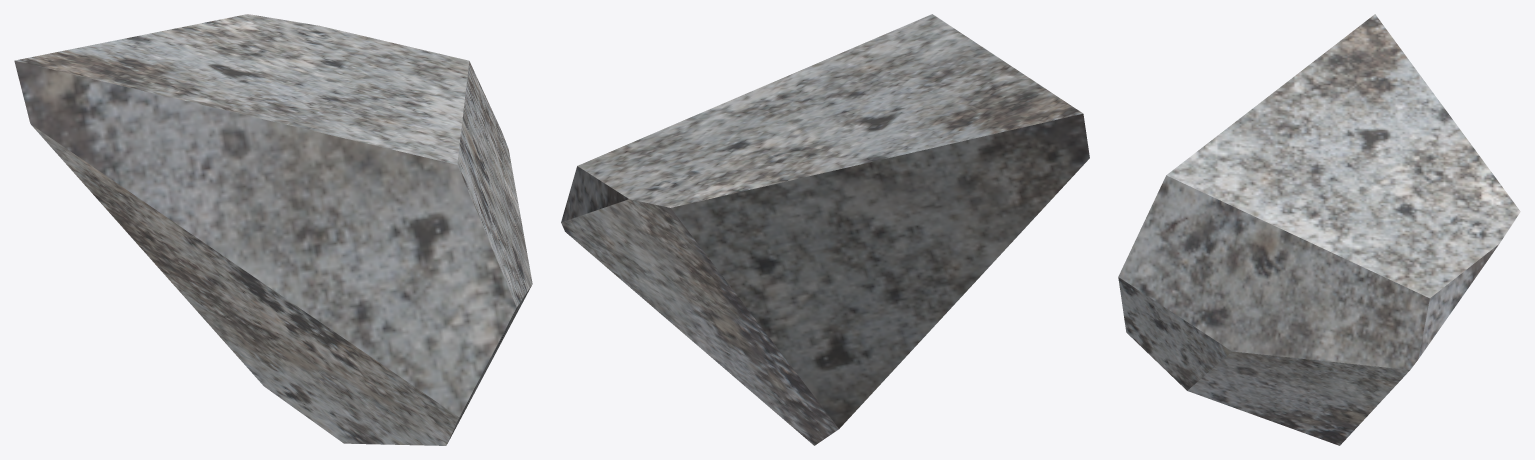
Rendered from Asteroid_Large_001_02_002_03_026.fbx.
The picture shows the model from 3 angles, left to right: view 1: azimuth 30°, elevation 25°; view 2: azimuth 150°, elevation 25°; view 3: azimuth 270°, elevation 25°; orthographic projection. The views are drawn at different scales.
Parts seen in each view (by area): view 1: Asteroid_Large_001_02_002_03_026; view 2: Asteroid_Large_001_02_002_03_026; view 3: Asteroid_Large_001_02_002_03_026.
Boxes of the visible parts, x1=… form: Asteroid_Large_001_02_002_03_026: x1=14, y1=14, x2=532, y2=445; Asteroid_Large_001_02_002_03_026: x1=561, y1=14, x2=1089, y2=445; Asteroid_Large_001_02_002_03_026: x1=1118, y1=14, x2=1520, y2=445.
Size of the model in its own units: 8.92 by 7.23 by 8.18.
